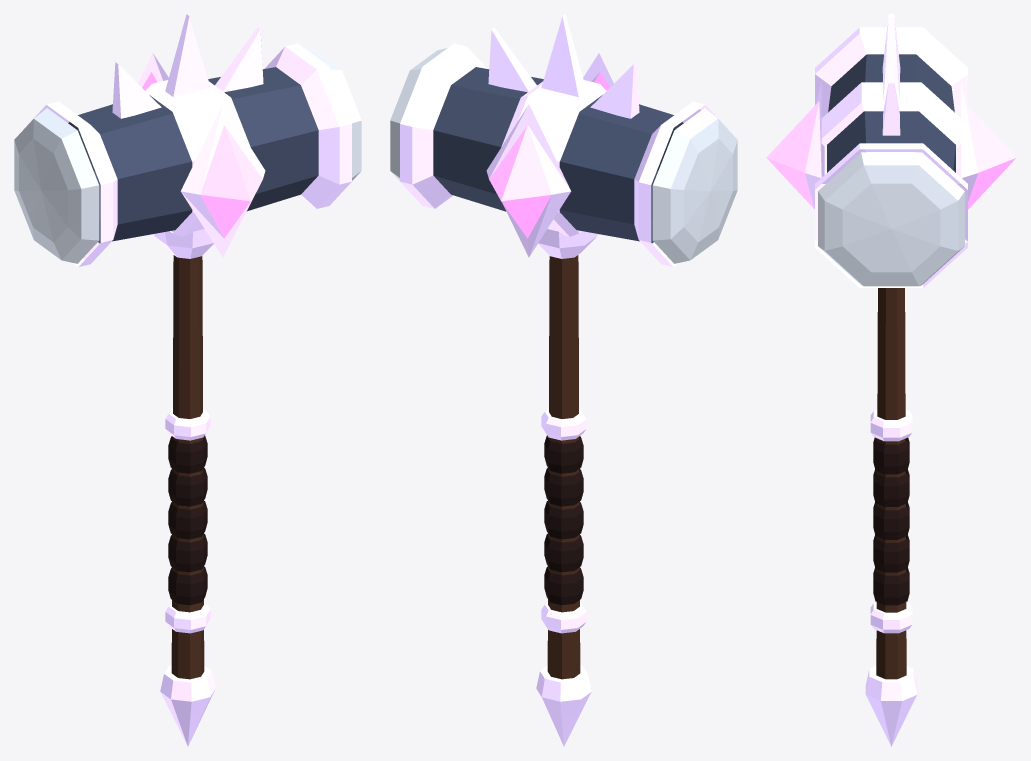
File: sky_hammer_chaos.glb
3 renders of one model, left to right at view 1: azimuth 30°, elevation 25°; view 2: azimuth 150°, elevation 25°; view 3: azimuth 270°, elevation 25°, orthographic.
Parts seen in each view (by area): view 1: skybreaker; view 2: skybreaker; view 3: skybreaker.
Boxes of the visible parts, box(x1,y1,x2,y2) form: skybreaker: box(14, 14, 361, 746); skybreaker: box(390, 14, 737, 746); skybreaker: box(766, 14, 1016, 746).
Bounding box in the file's own units: 0.7 × 1.67 × 0.52.
